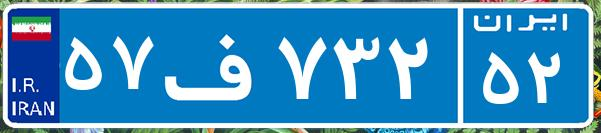2: (385, 28, 445, 110), (525, 38, 570, 115)
3: (330, 28, 385, 110)
5: (57, 26, 110, 107), (475, 38, 525, 113)
7: (273, 28, 330, 110), (110, 28, 158, 105)
ف: (158, 15, 273, 115)
